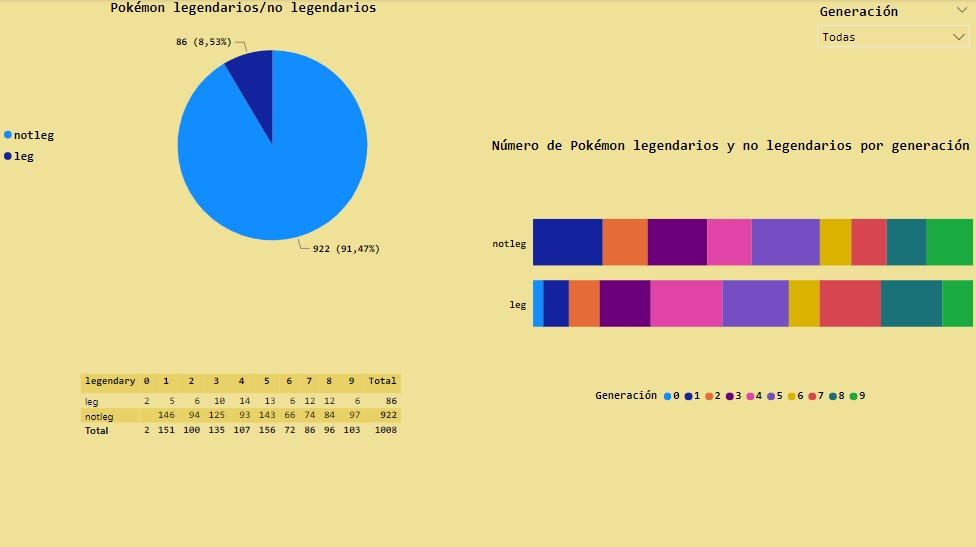

The page's visual inventory and layout, read from the dashboard file:
{"tool":"powerbi","page":{"name":"Leg/generación","canvas":[1280,720],"ordinal":3},"visuals":[{"type":"pieChart","title":"Pokémon legendarios/no legendarios","fields":{"Category":["poke.legendary"],"Y":["CountNonNull(poke.generation)"]},"box":[0,0,640,360.6],"z":0},{"type":"hundredPercentStackedBarChart","title":"Número de Pokémon legendarios y no legendarios por generación","fields":{"Category":["poke.legendary"],"Y":["CountNonNull(poke.generation)"],"Series":["poke.generation"]},"box":[640,180.3,640,359.2],"z":1000},{"type":"pivotTable","fields":{"Rows":["poke.legendary"],"Values":["CountNonNull(poke.generation)"],"Columns":["poke.generation"]},"box":[101.8,485.8,436.3,110.1],"z":2000},{"type":"slicer","fields":{"Values":["poke.generation","poke.number"]},"box":[1061.2,0,218.8,71.6],"z":3000}]}

Visuals, with their boxes in screenshot pixels (x1, y1, x2, y2), scaled from the page's 1280x720 canvas onto the 976x547 screenshot:
"Pokémon legendarios/no legendarios" pieChart: 0:0:488:274
"Número de Pokémon legendarios y no legendarios por generación" hundredPercentStackedBarChart: 488:137:975:410
pivotTable - poke.legendary x CountNonNull(poke.generation): 78:369:410:453
slicer - poke.generation x poke.number: 809:0:975:54
